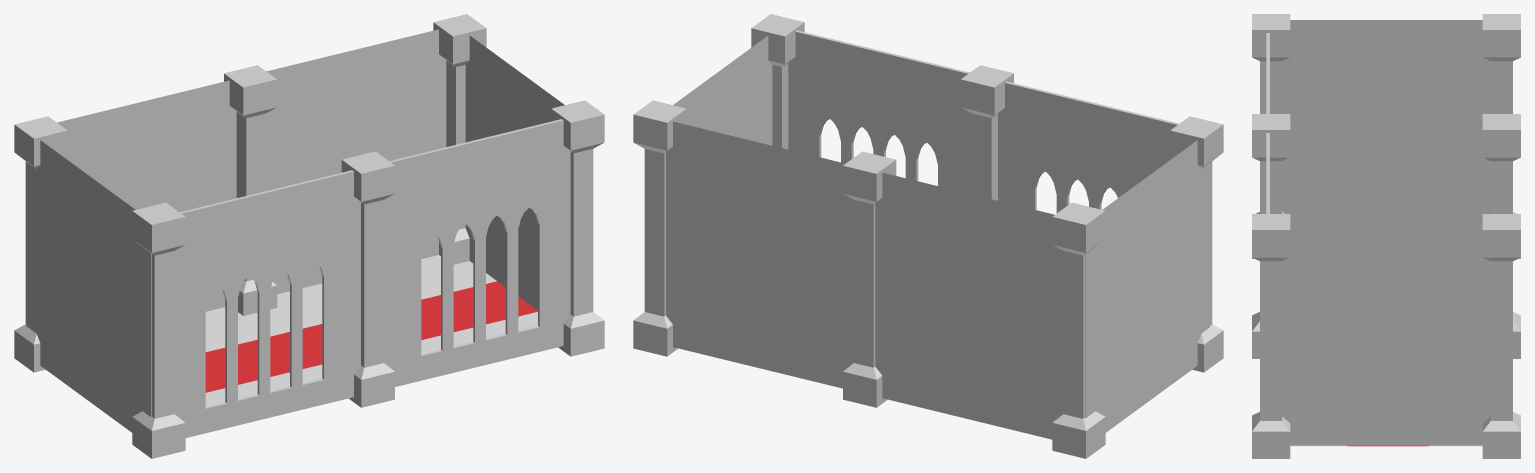
The model's file is Environment.fbx.
The picture shows the model from 3 angles, left to right: view 1: azimuth 30°, elevation 25°; view 2: azimuth 150°, elevation 25°; view 3: azimuth 270°, elevation 25°; orthographic projection. The views are drawn at different scales.
Visible parts, largest first — view 1: Plane.002, Plane.001, Plane.003, Cube, Plane, Cube.001, Plane.004; view 2: Plane.001, Plane.002, Plane.003, Cube.001, Cube, Plane.004; view 3: Plane.004, Plane.003, Cube.001, Cube, Plane.002, Plane.
Boxes of the visible parts, <box> form: Plane.002: <box>149,119,570,437</box>; Plane.001: <box>57,29,446,311</box>; Plane.003: <box>26,140,149,432</box>; Cube: <box>132,100,604,458</box>; Plane: <box>205,255,537,406</box>; Cube.001: <box>14,14,486,372</box>; Plane.004: <box>465,35,564,310</box>; Plane.001: <box>666,121,1085,439</box>; Plane.002: <box>788,30,1209,328</box>; Plane.003: <box>1085,140,1207,432</box>; Cube.001: <box>633,100,1105,458</box>; Cube: <box>751,14,1223,372</box>; Plane.004: <box>673,35,772,145</box>; Plane.004: <box>1282,224,1490,445</box>; Plane.003: <box>1282,20,1490,224</box>; Cube.001: <box>1482,14,1520,458</box>; Cube: <box>1252,14,1290,458</box>; Plane.002: <box>1266,33,1269,213</box>; Plane: <box>1290,445,1482,446</box>.
Bounding box in the file's own units: 4200 × 2073 × 2208.
